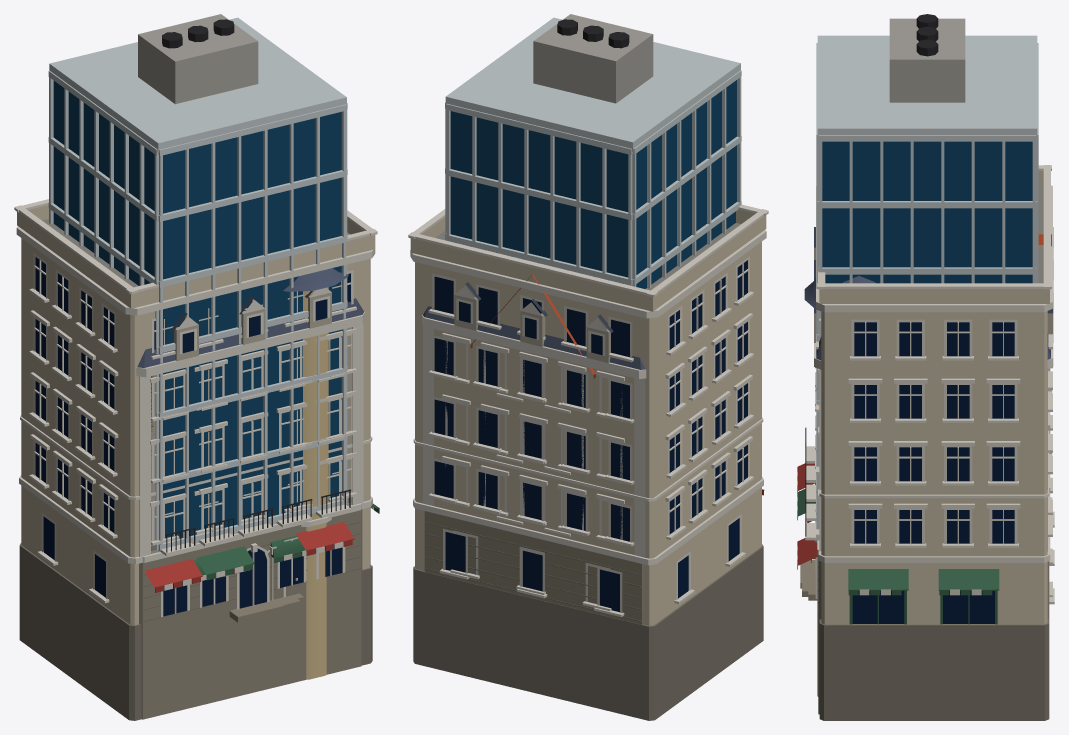
File: town-kit.glb
3 views of the same model, side by side, from view 1: azimuth 30°, elevation 25°; view 2: azimuth 150°, elevation 25°; view 3: azimuth 270°, elevation 25° (orthographic).
Visible parts, largest first — view 1: Kit_GlassBlock, Kit_FlatBlock, Kit_SlateBlock, Kit_TurretCorner, Kit_DutchGable; view 2: Kit_FlatBlock, Kit_GlassBlock, Kit_SlateBlock, Kit_Townhouse; view 3: Kit_FlatBlock, Kit_GlassBlock, Kit_SlateBlock, Kit_TurretCorner.
Part boxes in pixels (left/top/right/bottom): Kit_GlassBlock: left=48, top=14, right=347, bottom=552; Kit_FlatBlock: left=14, top=199, right=379, bottom=720; Kit_SlateBlock: left=136, top=288, right=365, bottom=719; Kit_TurretCorner: left=283, top=268, right=348, bottom=679; Kit_DutchGable: left=191, top=535, right=315, bottom=609; Kit_FlatBlock: left=408, top=204, right=768, bottom=720; Kit_GlassBlock: left=445, top=14, right=741, bottom=288; Kit_SlateBlock: left=422, top=282, right=646, bottom=624; Kit_Townhouse: left=470, top=274, right=595, bottom=536; Kit_FlatBlock: left=797, top=165, right=1052, bottom=720; Kit_GlassBlock: left=816, top=14, right=1038, bottom=539; Kit_SlateBlock: left=800, top=227, right=1054, bottom=714; Kit_TurretCorner: left=804, top=276, right=875, bottom=696.
Size of the model in its own units: 14.37 by 32.2 by 11.95.
